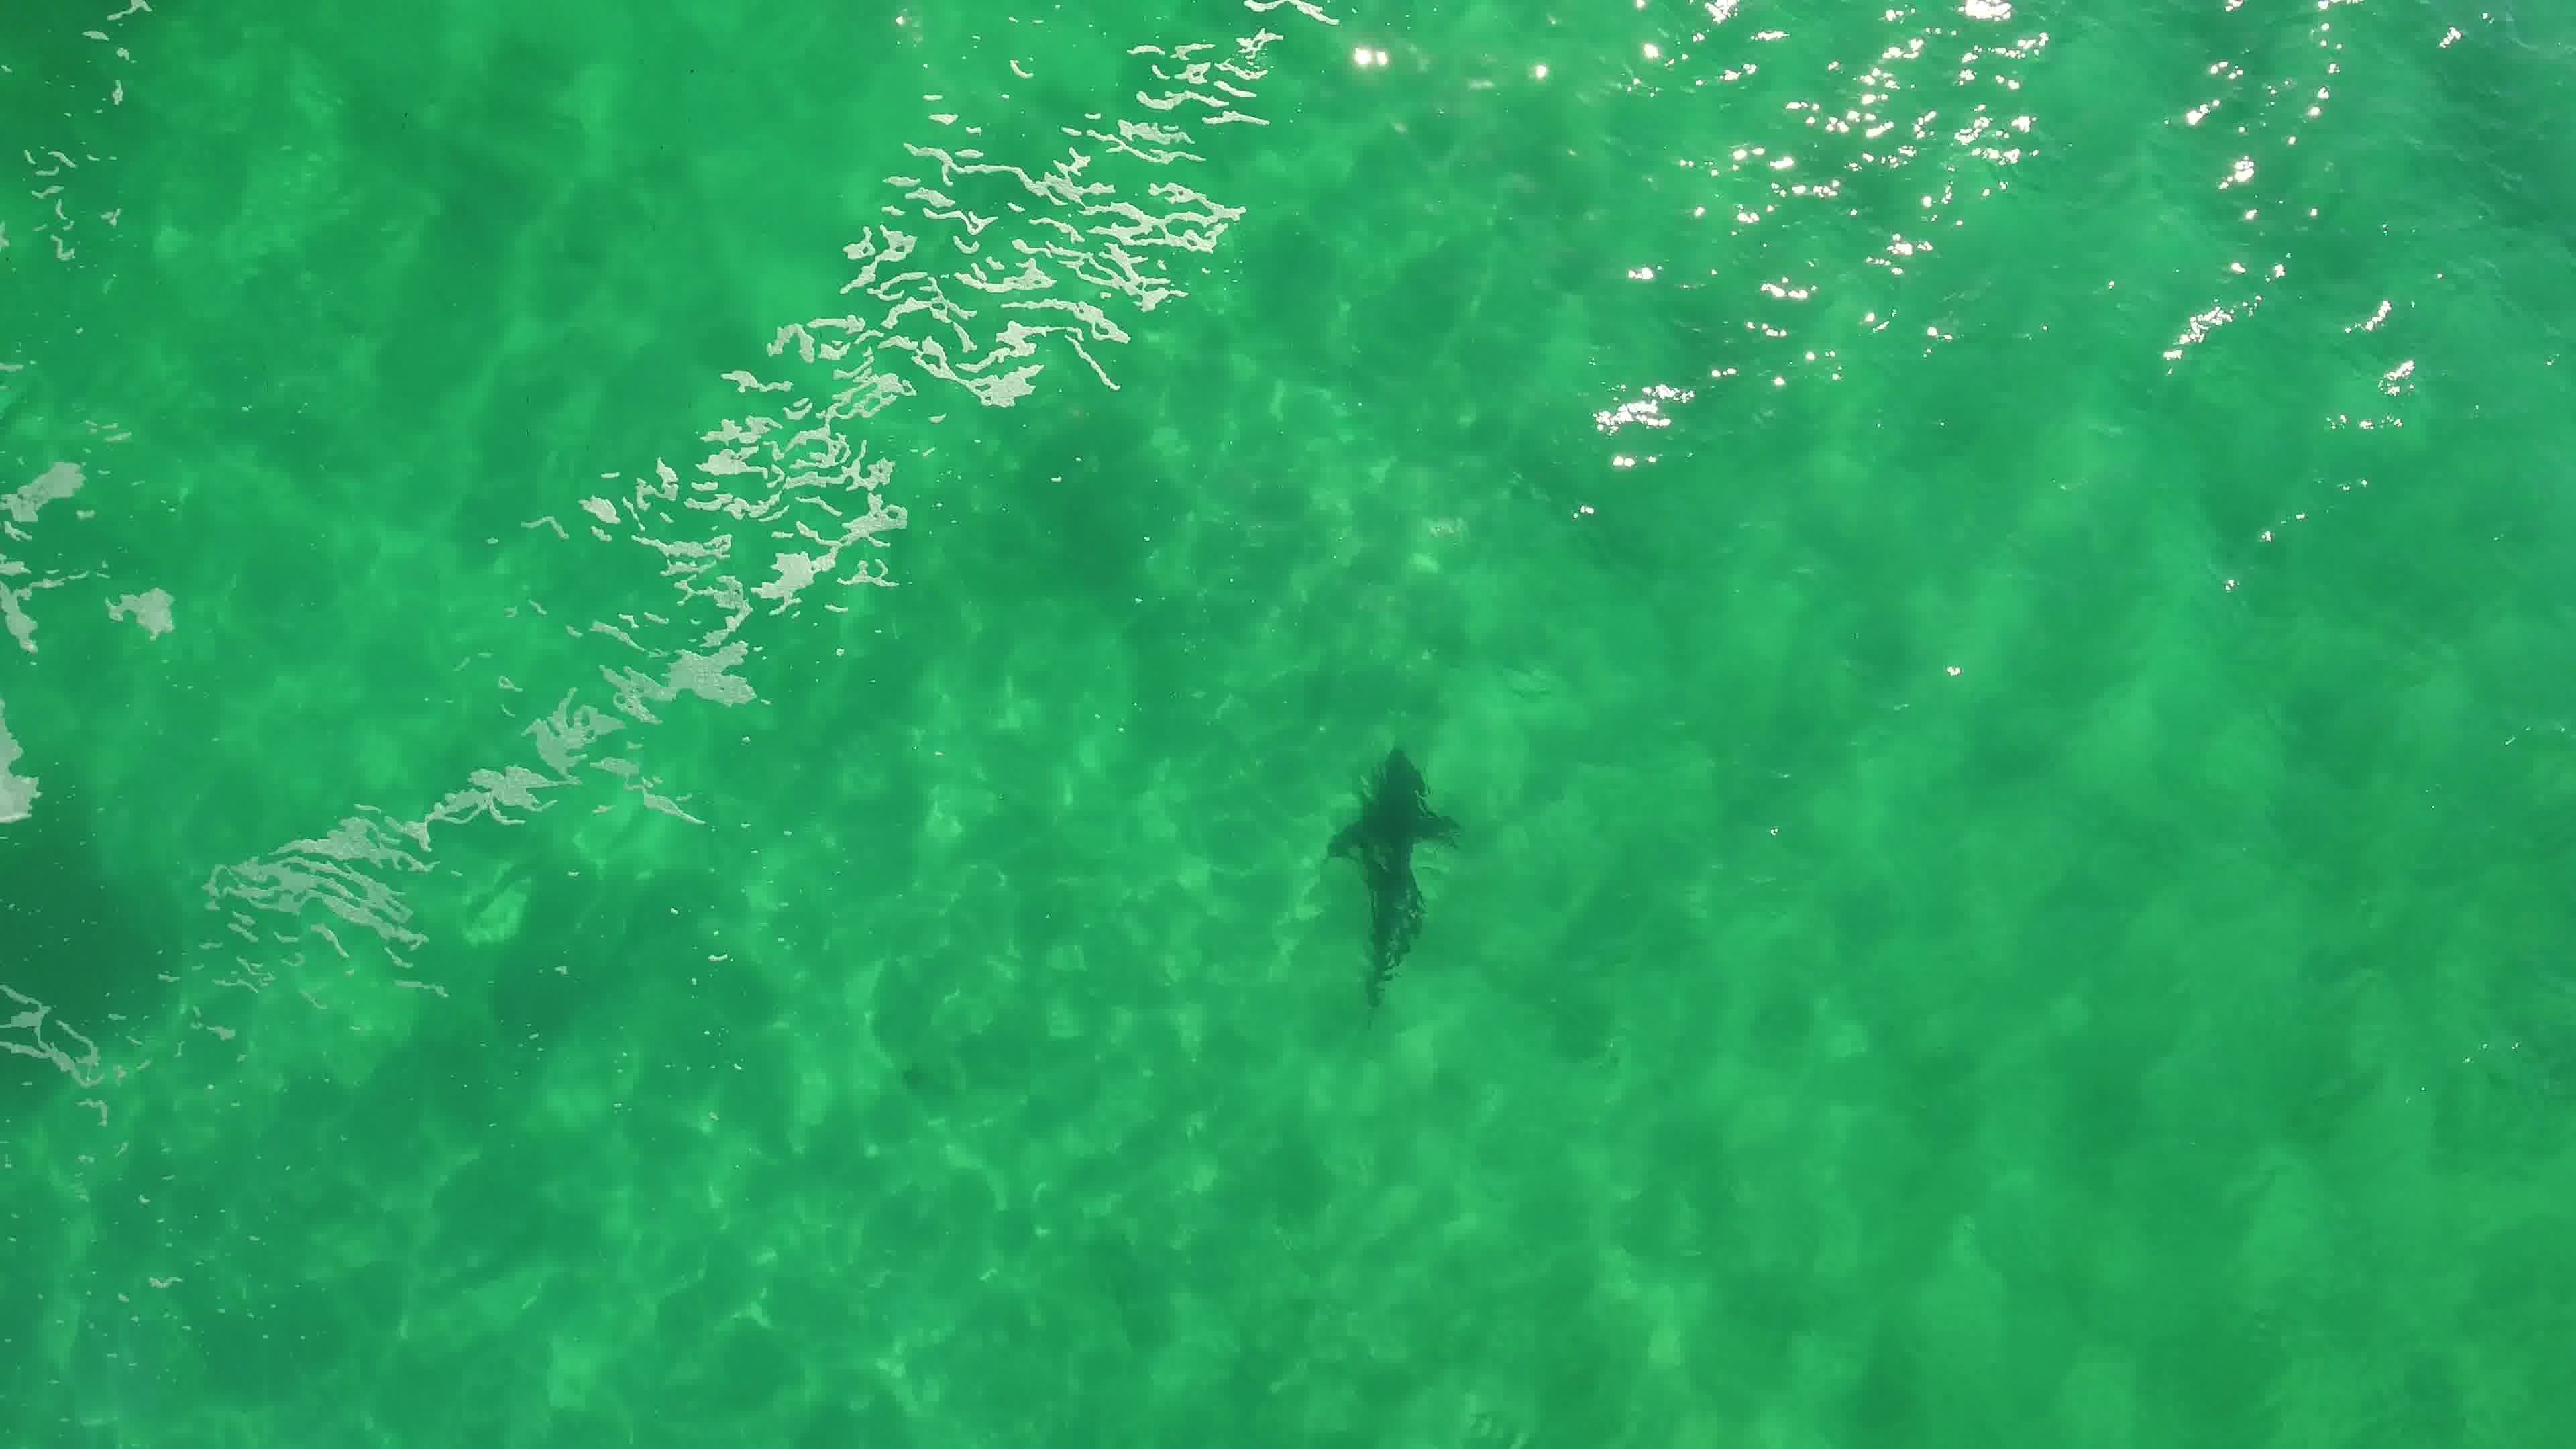shark: (1316, 738, 1467, 1016)
